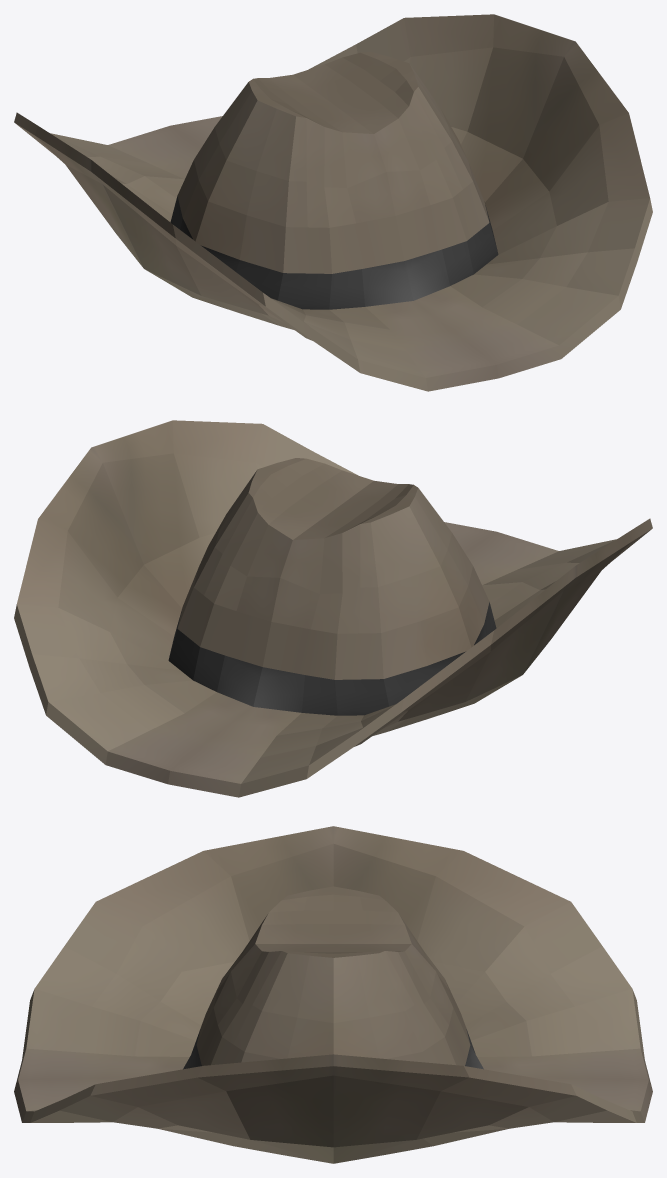
The model's file is cowboyhat.fbx.
The picture shows the model from 3 angles, top to bottom: view 1: azimuth 30°, elevation 25°; view 2: azimuth 150°, elevation 25°; view 3: azimuth 270°, elevation 25°; orthographic projection. The views are drawn at different scales.
Visible parts, largest first — view 1: cowboyhat; view 2: cowboyhat; view 3: cowboyhat.
Boxes of the visible parts, x1,y1,x2,y2 form: cowboyhat: (14,14,652,391); cowboyhat: (14,420,652,797); cowboyhat: (14,826,652,1163).
Size of the model in its own units: 28.64 by 10.25 by 33.88.
